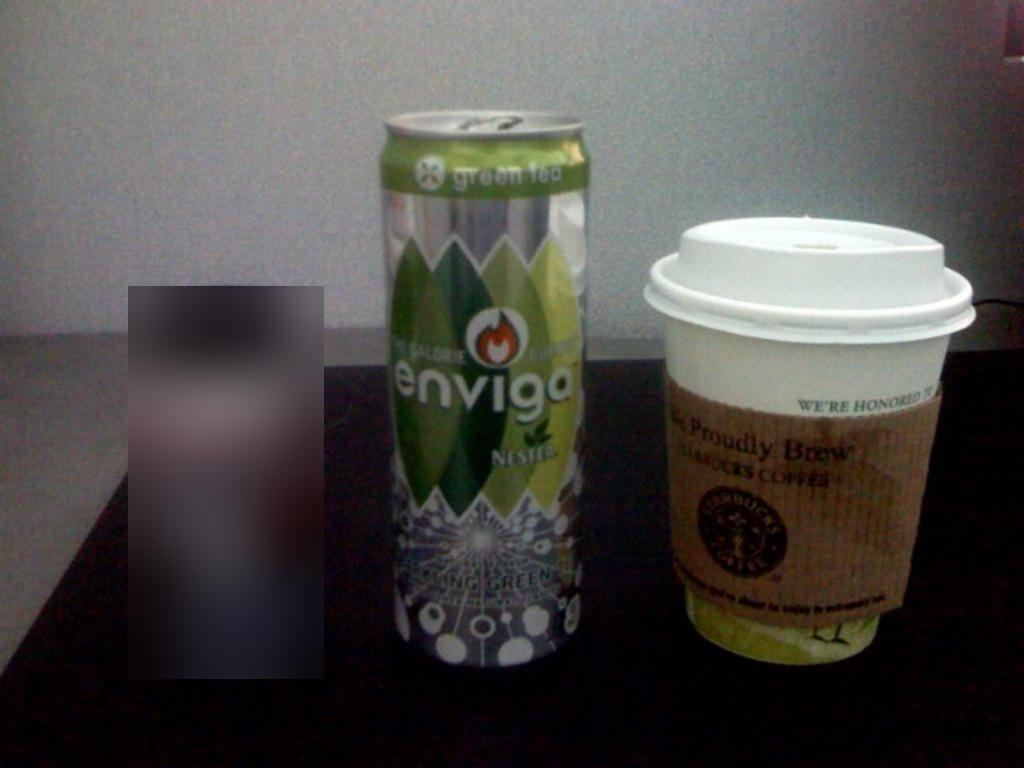cup-disposable: (638, 209, 984, 667)
tin can: (382, 97, 592, 684)
